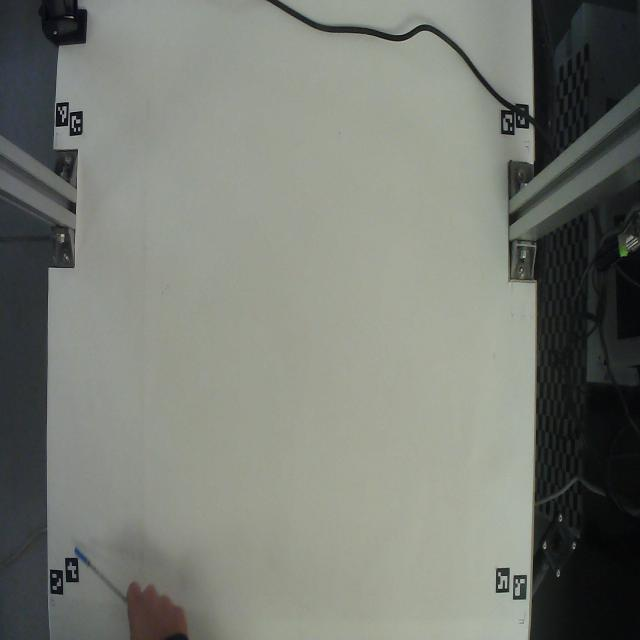NoPres: (66, 510, 136, 618)
